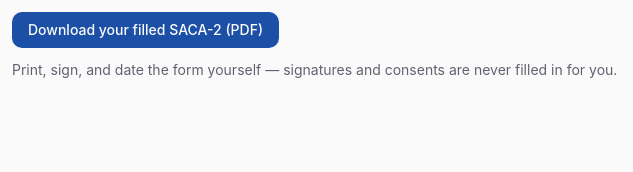
it: Saca2Download › is disabled and says it is preparing while the request is pending
Click the button "Download your filled SACA-2 (PDF)" at x=146, y=30, box top-left (12, 12), bottom-right (279, 48)
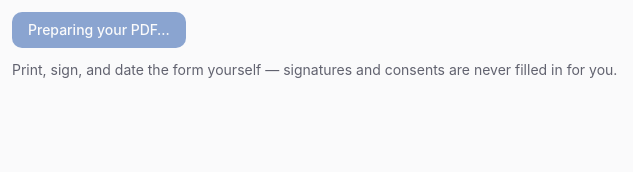
Now the button "Preparing your PDF…" is disabled
Click the button "Preparing your PDF…" at x=99, y=30, box top-left (12, 12), bottom-right (186, 48)
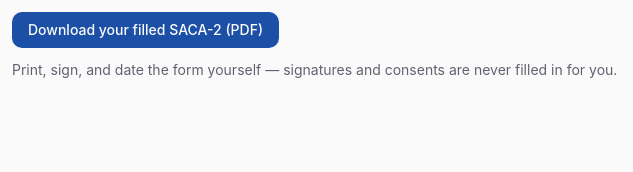
Now the button "Download your filled SACA-2 (PDF)" is enabled, box top-left (12, 12), bottom-right (279, 48)
